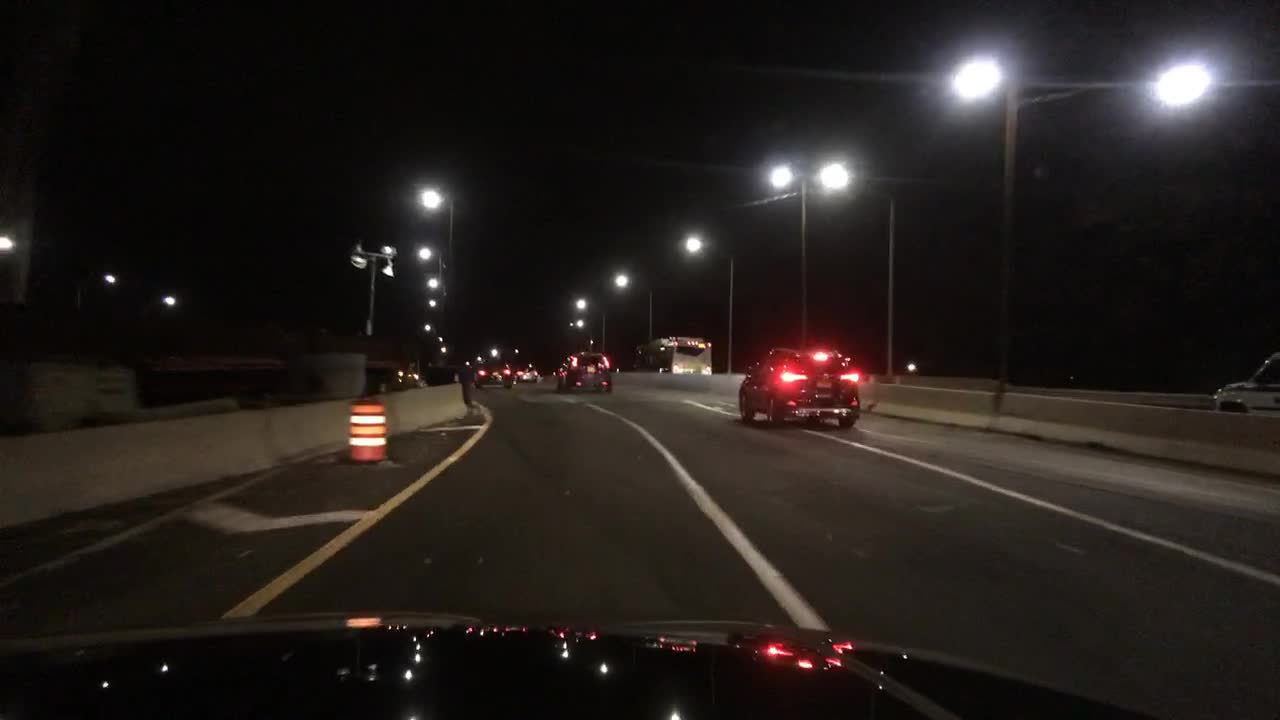car: (738, 346, 860, 432), (1215, 351, 1276, 411), (554, 351, 616, 395), (471, 356, 516, 388), (516, 363, 541, 381)
truck: (631, 338, 712, 374)
